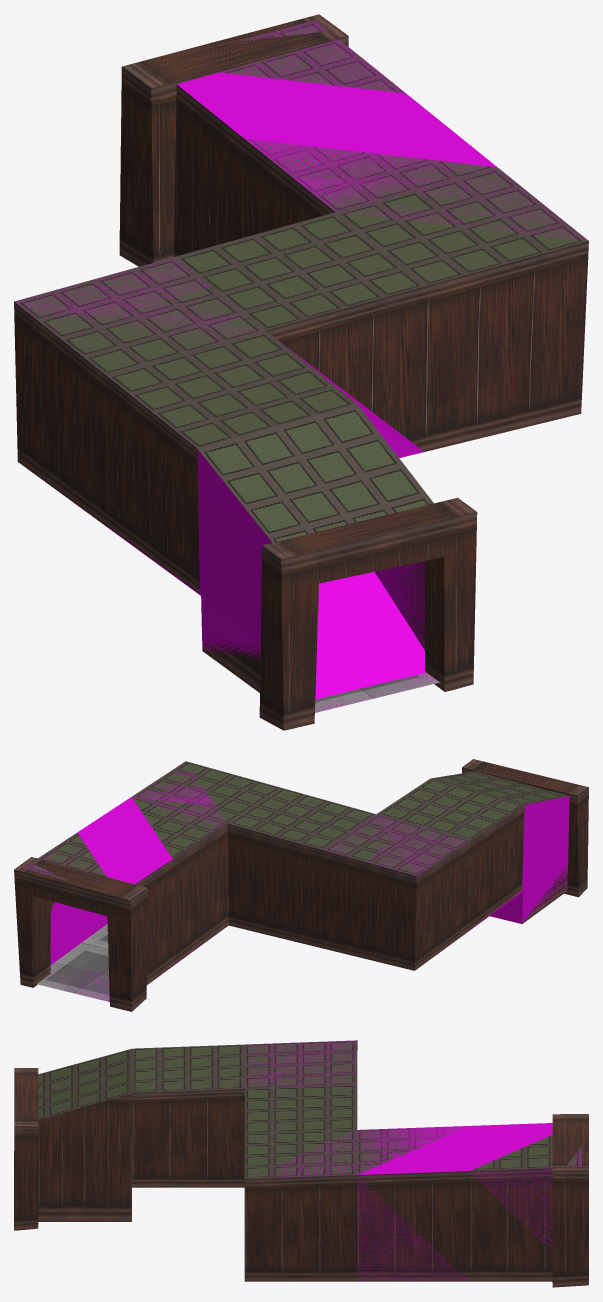
Rendered from office_connector2.fbx.
3 renders of one model, top to bottom at view 1: azimuth 30°, elevation 25°; view 2: azimuth 150°, elevation 25°; view 3: azimuth 270°, elevation 25°, orthographic. The views are drawn at different scales.
Parts seen in each view (by area): view 1: wall, polySurface1, DoorFrame_Connector1, DoorFrame_Connector2, stair_collsion, floor; view 2: wall, polySurface1, DoorFrame_Connector2, DoorFrame_Connector1, floor; view 3: wall, polySurface1, DoorFrame_Connector2, DoorFrame_Connector1.
Part boxes in pixels (x1,y1,x2,y2): wall: (14, 20, 588, 692); polySurface1: (15, 20, 587, 657); DoorFrame_Connector1: (259, 497, 477, 730); DoorFrame_Connector2: (119, 14, 348, 266); stair_collsion: (315, 572, 425, 699); floor: (315, 672, 439, 712); wall: (23, 761, 568, 984); polySurface1: (24, 771, 569, 982); DoorFrame_Connector2: (14, 857, 147, 1011); DoorFrame_Connector1: (462, 759, 588, 897); floor: (37, 924, 109, 1001); wall: (38, 1040, 581, 1281); polySurface1: (245, 1040, 581, 1281); DoorFrame_Connector2: (552, 1114, 588, 1287); DoorFrame_Connector1: (14, 1068, 38, 1230).
Size of what is drawn, in the model's own units: 47.99 by 22.79 by 76.61.
